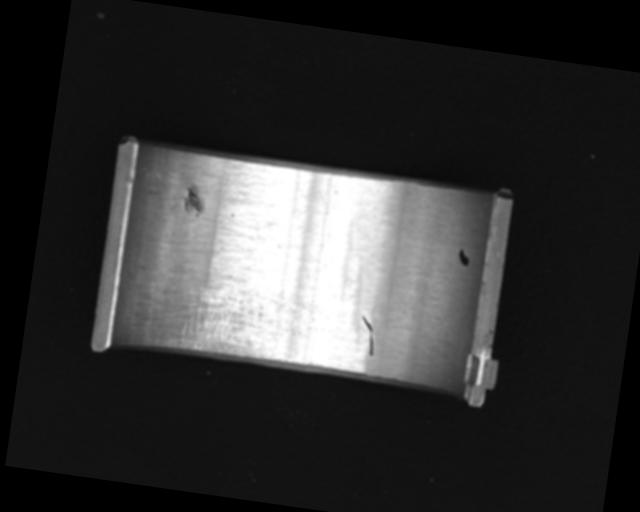blot: (456, 248, 472, 268)
bruise: (180, 184, 208, 219)
nick: (356, 316, 379, 357)
scratch: (167, 273, 313, 365)
